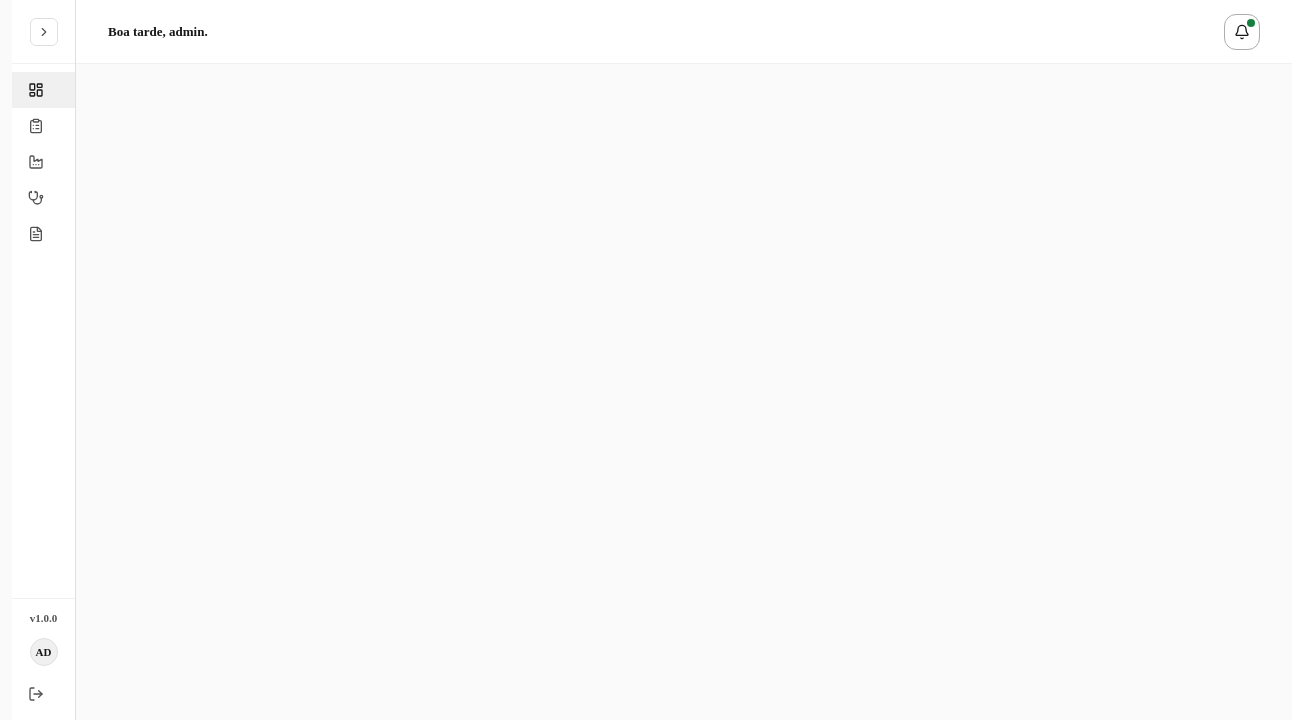
PortalLayout navigation › keeps the expand control visible when the admin sidebar starts collapsed
This screenshot has width=1292, height=720.
Step 1. Click the button named "expandir menu" → (44, 32), box [30,18,58,46]
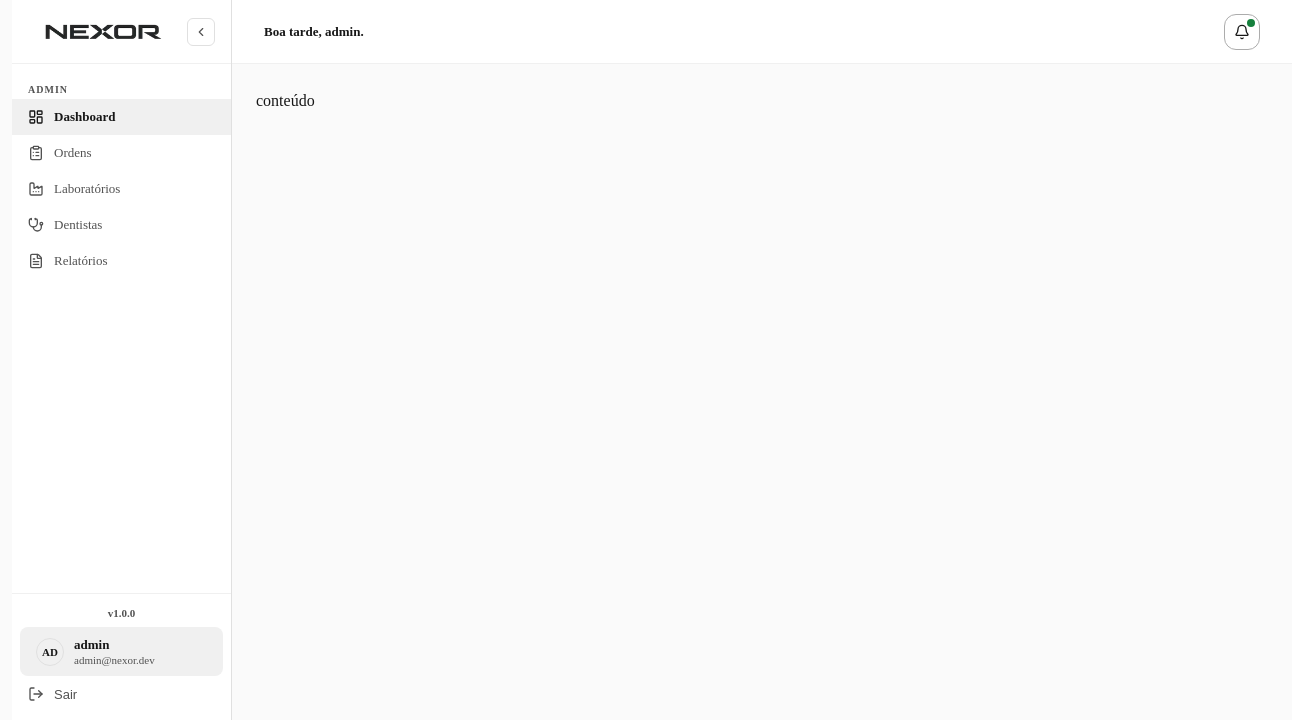
Expected: the button named "colapsar menu" is shown, [187,18,215,46]
